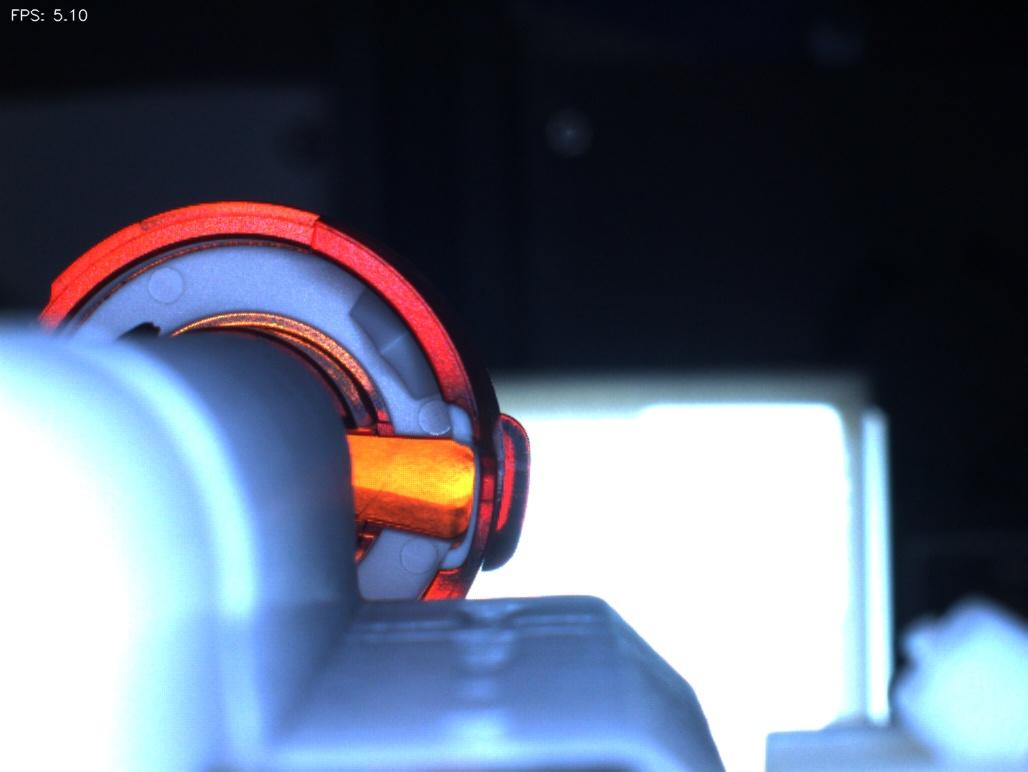Retassure: (368, 435, 483, 521)
